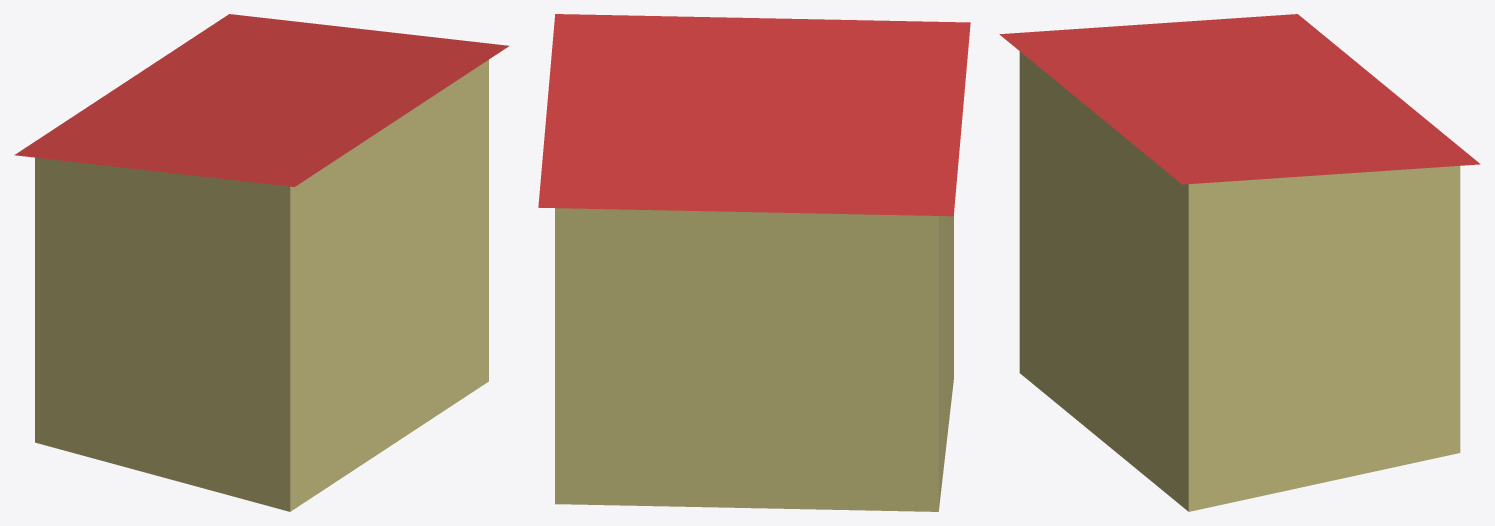
3 renders of one model, left to right at view 1: azimuth 30°, elevation 25°; view 2: azimuth 150°, elevation 25°; view 3: azimuth 270°, elevation 25°, orthographic. The views are drawn at different scales.
Size of the model in its own units: 8.38 by 7.93 by 6.1.
